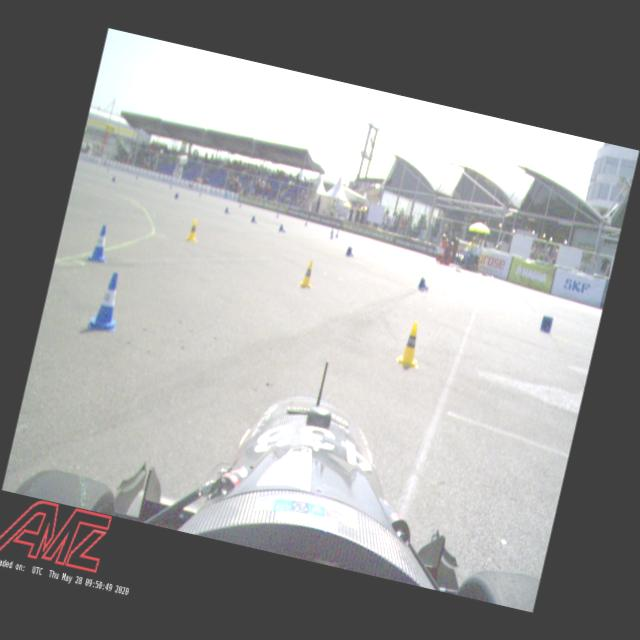blue_cone: (84, 267, 128, 335), (85, 220, 113, 266), (538, 314, 554, 334), (416, 275, 432, 293), (344, 244, 356, 258), (276, 222, 286, 234), (249, 213, 259, 224), (224, 207, 232, 214)
yellow_cone: (394, 318, 428, 370), (297, 258, 317, 292), (184, 216, 202, 244)
